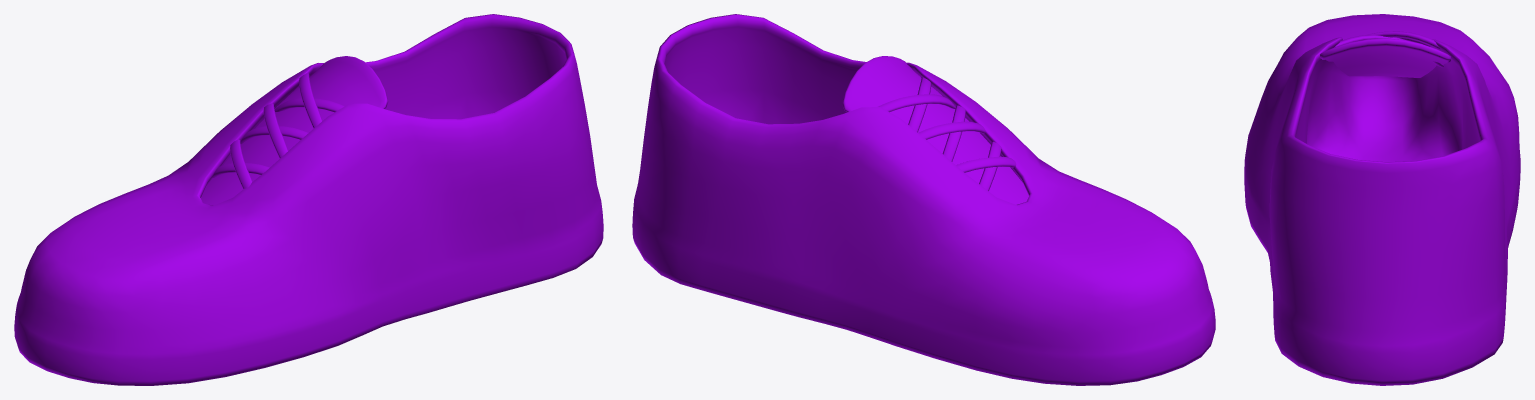
File: Shoes_Right.fbx
3 views of the same model, side by side, from view 1: azimuth 30°, elevation 25°; view 2: azimuth 150°, elevation 25°; view 3: azimuth 270°, elevation 25° (orthographic). The views are drawn at different scales.
Parts seen in each view (by area): view 1: Shoes_Right; view 2: Shoes_Right; view 3: Shoes_Right.
Boxes of the visible parts, x1,y1,x2,y2 form: Shoes_Right: [14, 14, 603, 385]; Shoes_Right: [632, 14, 1215, 385]; Shoes_Right: [1244, 14, 1520, 385].
Bounding box in the file's own units: 179 × 68.58 × 70.46.
